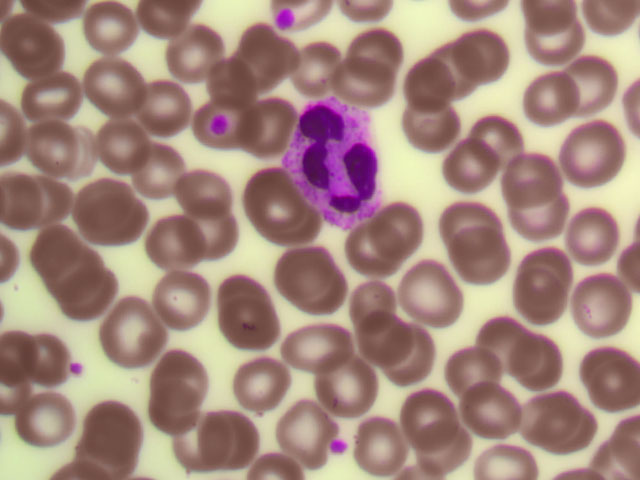Platelets: (273, 7, 295, 32), (325, 436, 349, 454), (67, 360, 85, 379)
RBC: (146, 265, 215, 332), (101, 298, 170, 365), (148, 332, 217, 399), (139, 376, 208, 443), (170, 401, 239, 468), (206, 412, 275, 479), (83, 388, 152, 455), (17, 383, 86, 450), (3, 320, 72, 387), (216, 300, 285, 367), (213, 261, 282, 328), (270, 234, 339, 301), (282, 264, 351, 331), (339, 256, 408, 323), (341, 302, 410, 369), (377, 311, 446, 378), (303, 362, 372, 429), (290, 316, 359, 383), (260, 396, 329, 463), (351, 413, 420, 480), (388, 377, 457, 444), (402, 413, 471, 480), (453, 381, 522, 448), (438, 331, 507, 398), (470, 304, 539, 371), (494, 325, 563, 392), (513, 382, 582, 449), (562, 350, 631, 417), (563, 269, 632, 336), (505, 274, 574, 341), (506, 246, 575, 313), (448, 229, 517, 296), (434, 197, 503, 264), (398, 256, 467, 323), (377, 207, 446, 274), (329, 226, 398, 293), (424, 142, 493, 209), (448, 113, 517, 180), (400, 97, 469, 164), (393, 66, 462, 133), (430, 39, 499, 106), (457, 23, 526, 90), (334, 51, 403, 118), (345, 26, 414, 93), (276, 28, 345, 95), (515, 11, 584, 78), (505, 66, 574, 133), (560, 47, 629, 114), (561, 120, 630, 187), (503, 142, 572, 209), (506, 185, 575, 252), (571, 413, 640, 480), (5, 18, 56, 67), (16, 29, 67, 78), (30, 73, 81, 122), (20, 120, 71, 169), (57, 130, 108, 179), (10, 172, 61, 221), (25, 229, 76, 278), (53, 250, 104, 299), (65, 283, 116, 332), (77, 184, 128, 233), (104, 206, 155, 255), (130, 149, 181, 198), (97, 120, 148, 169), (87, 62, 138, 111), (82, 3, 133, 52), (138, 86, 189, 135), (168, 24, 219, 73), (140, 2, 191, 51), (207, 50, 258, 99), (227, 27, 278, 76), (255, 41, 306, 90), (250, 95, 301, 144), (205, 102, 256, 151), (241, 168, 292, 217), (263, 201, 314, 250), (190, 206, 241, 255), (181, 172, 232, 221), (149, 215, 200, 264)
WBC: (285, 97, 396, 238)
